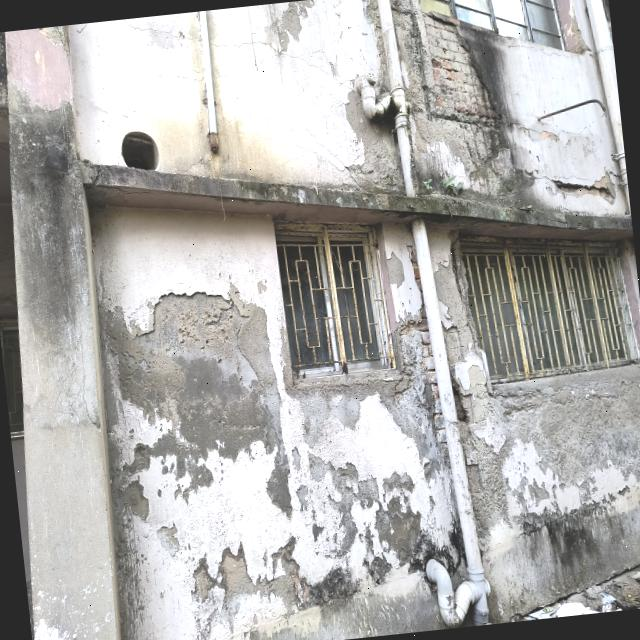Crack: (211, 28, 364, 102), (548, 168, 619, 203)
Scaling: (426, 223, 640, 618), (294, 228, 468, 574), (107, 259, 303, 538), (389, 0, 546, 197), (339, 78, 401, 187)
exposed brickwork: (427, 8, 516, 135)
pollution -moisture induced blackening: (0, 25, 632, 640), (453, 368, 640, 621), (166, 287, 295, 510)
